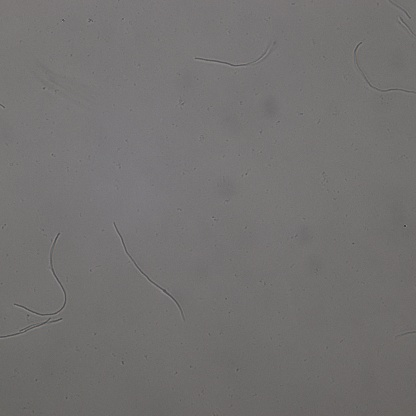Sensitive: (113, 223, 186, 320), (15, 231, 68, 317), (353, 42, 416, 97), (196, 43, 272, 68), (1, 317, 62, 339)
